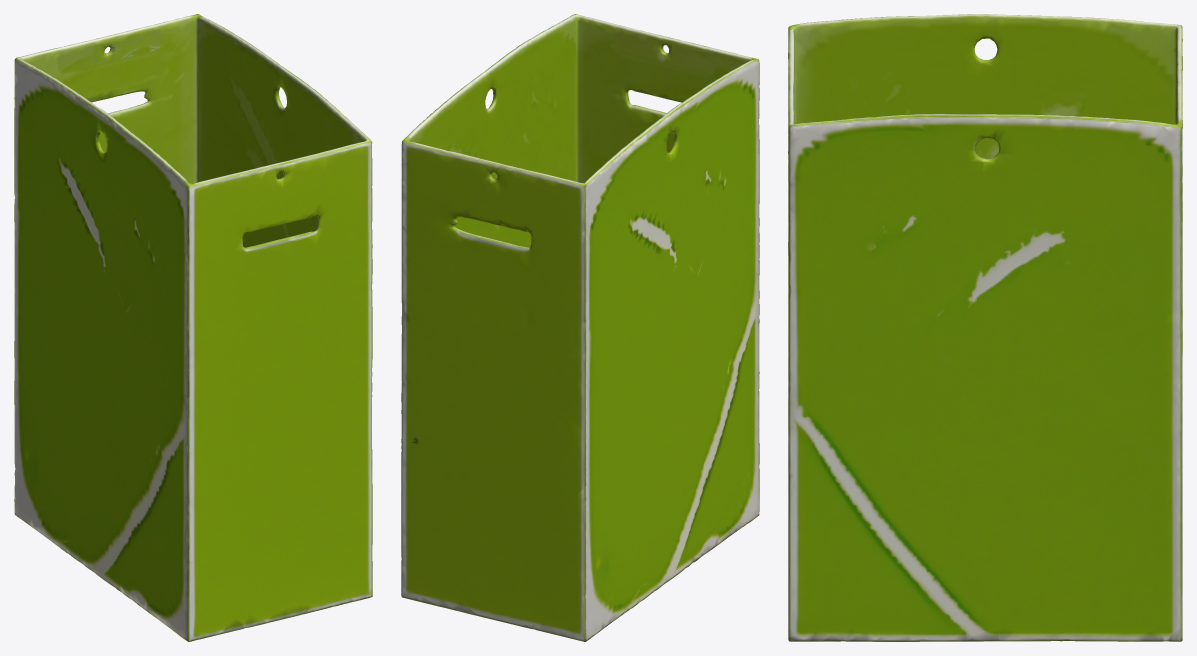
Rendered from toners.glb.
The picture shows the model from 3 angles, left to right: view 1: azimuth 30°, elevation 25°; view 2: azimuth 150°, elevation 25°; view 3: azimuth 270°, elevation 25°; orthographic projection. The views are drawn at different scales.
Size of the model in its own units: 0.8336 by 2.02 by 1.37.
1 material, 1 textured.
